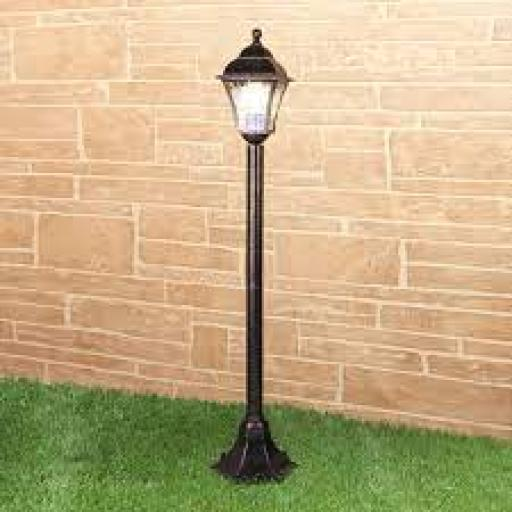Light-pole: (194, 30, 332, 469)
